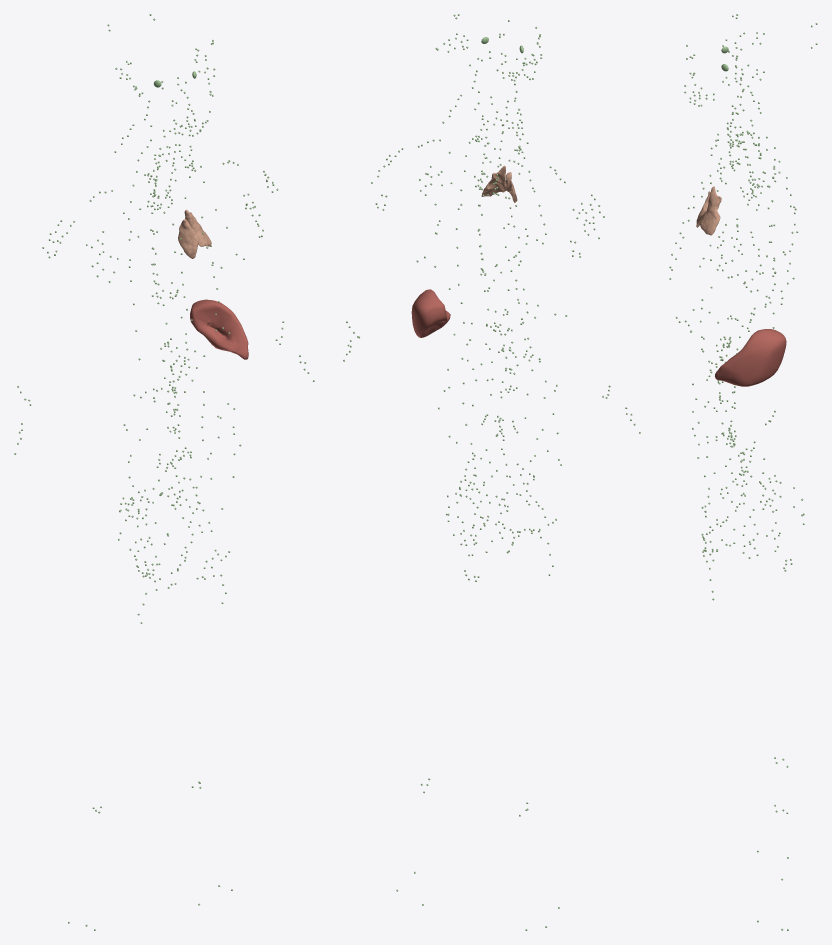
The model's file is adult_male.lymphatic.LOD0.glb.
3 renders of one model, left to right at view 1: azimuth 30°, elevation 25°; view 2: azimuth 150°, elevation 25°; view 3: azimuth 270°, elevation 25°, orthographic.
Parts seen in each view (by area): view 1: ADULT.MALE.LYMPHATIC.SPLEEN; view 2: ADULT.MALE.LYMPHATIC.SPLEEN; view 3: ADULT.MALE.LYMPHATIC.SPLEEN, ADULT.MALE.LYMPHATIC.LEFT_LOBE_OF_THYMUS.
Boxes of the visible parts, x1,y1,x2,y2 form: ADULT.MALE.LYMPHATIC.SPLEEN: (190,299,248,359); ADULT.MALE.LYMPHATIC.SPLEEN: (411,289,450,337); ADULT.MALE.LYMPHATIC.SPLEEN: (715,329,786,386); ADULT.MALE.LYMPHATIC.LEFT_LOBE_OF_THYMUS: (699,186,721,235).
Bounding box in the file's own units: 0.4523 × 1.28 × 0.1963.
